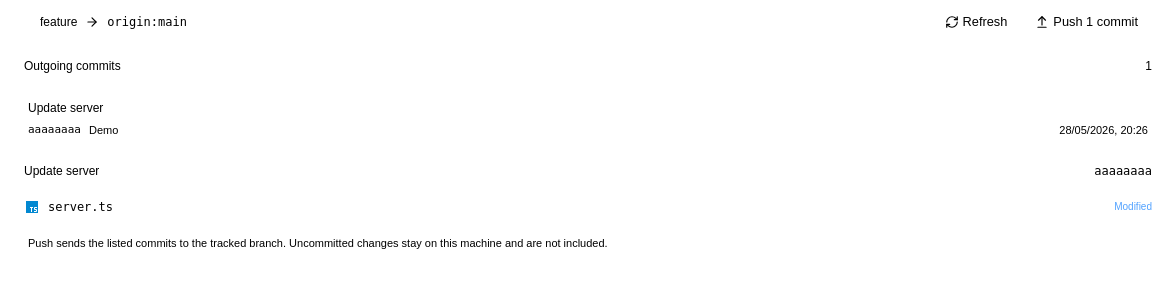
Test: moves files into the commit column, compares committed revisions, and restores the list in en
Click the button "server.ts Modified" at (81, 206), box [12,190,1164,222]
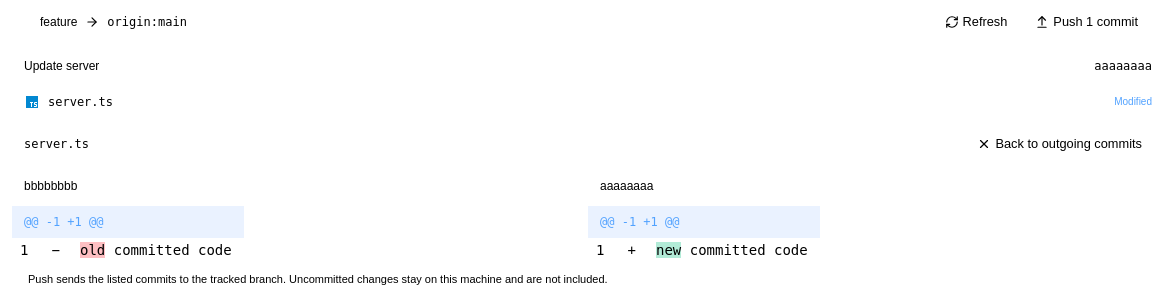
Expected: the text "aaaaaaaa" in the row of "bbbbbbbb" is shown, [600,179,653,193]
Expected: the text "bbbbbbbb" is shown, [24,179,77,193]
Click the button "Back to outgoing commits" at (1060, 144), box [968,130,1152,158]
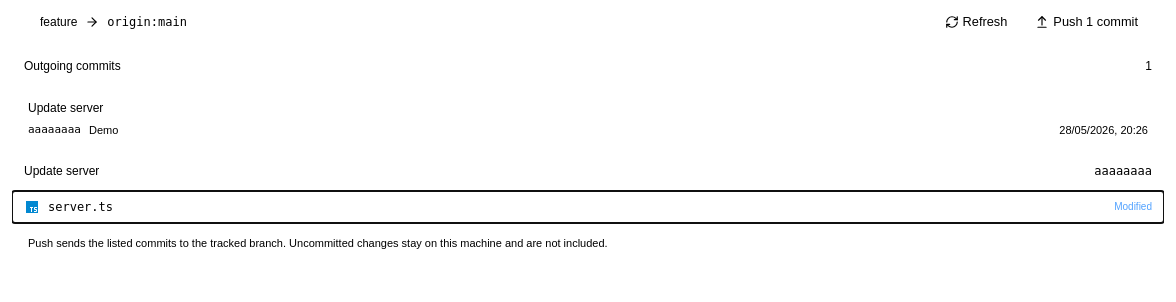
Expected: the element "Outgoing commits" is shown, [12,50,1164,154]
